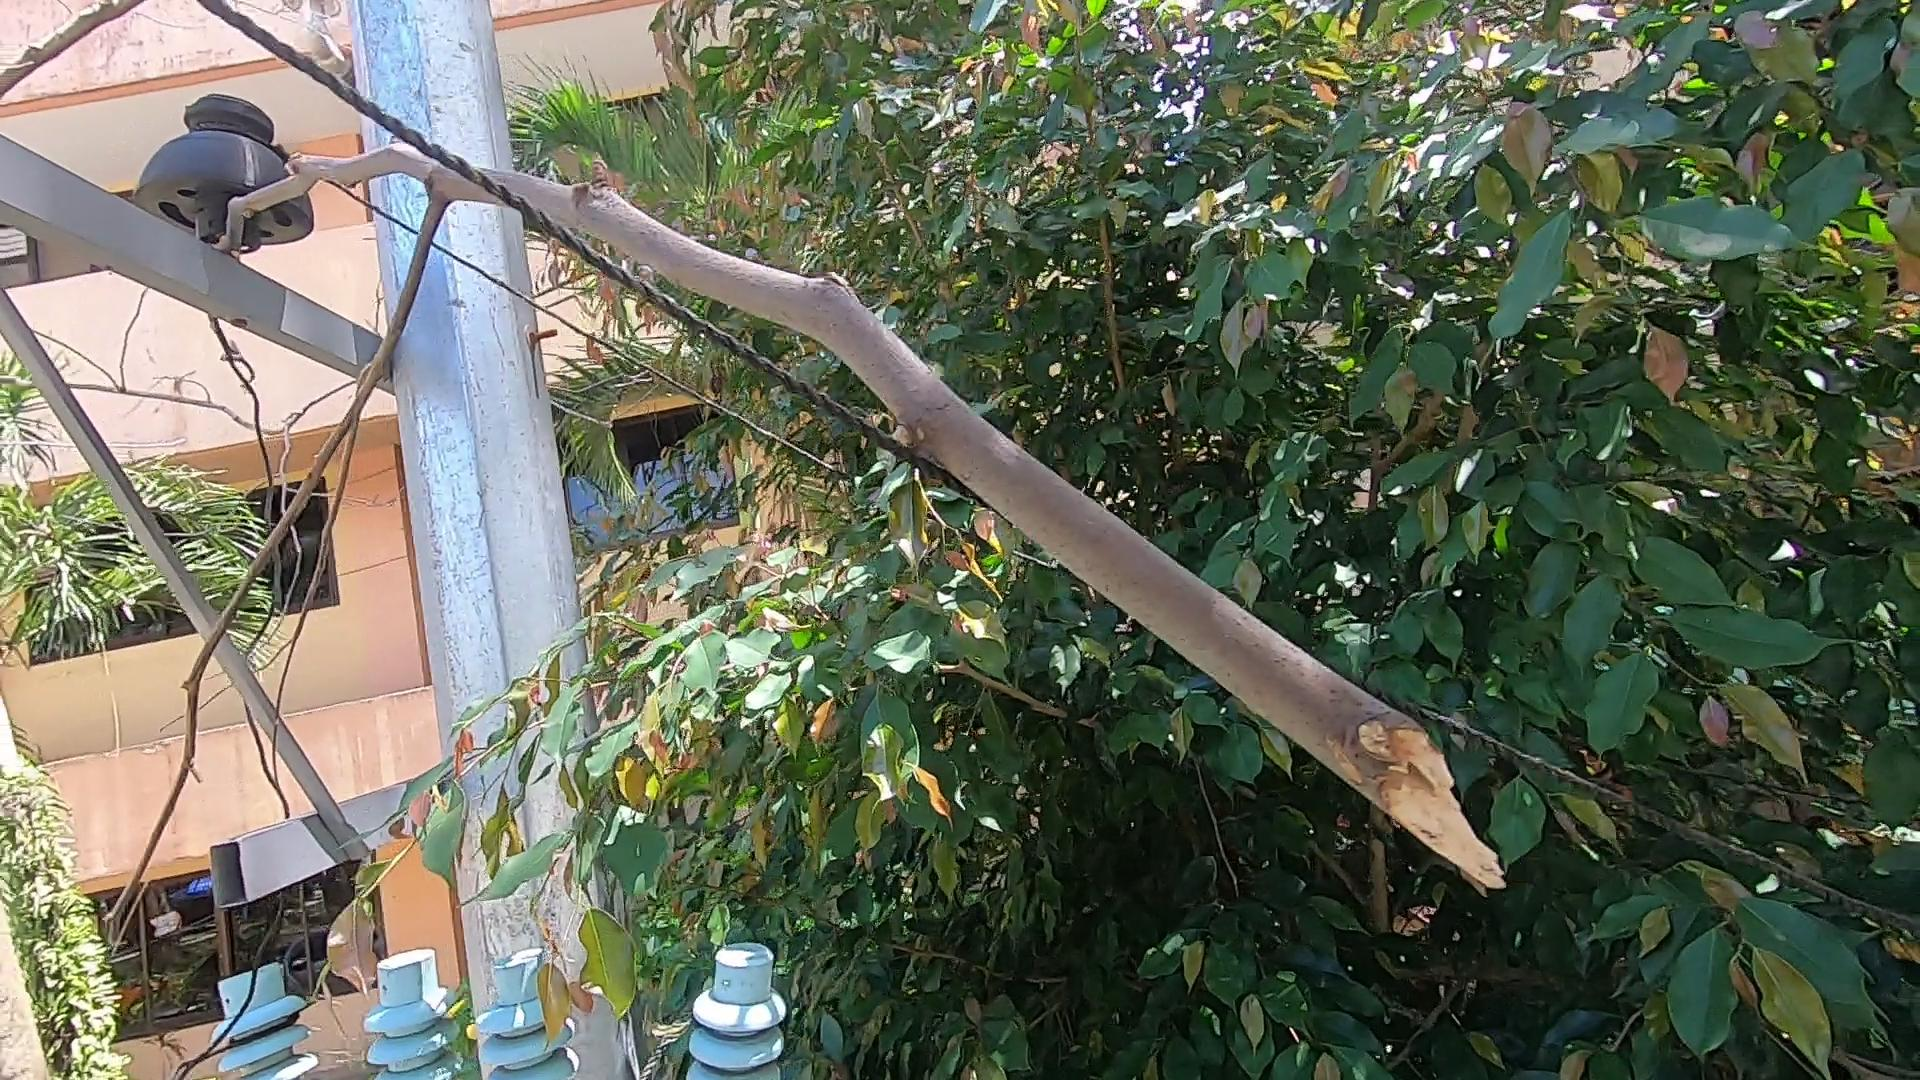branch with leaves: (378, 690, 703, 1059)
tree branch: (45, 65, 1520, 993)
